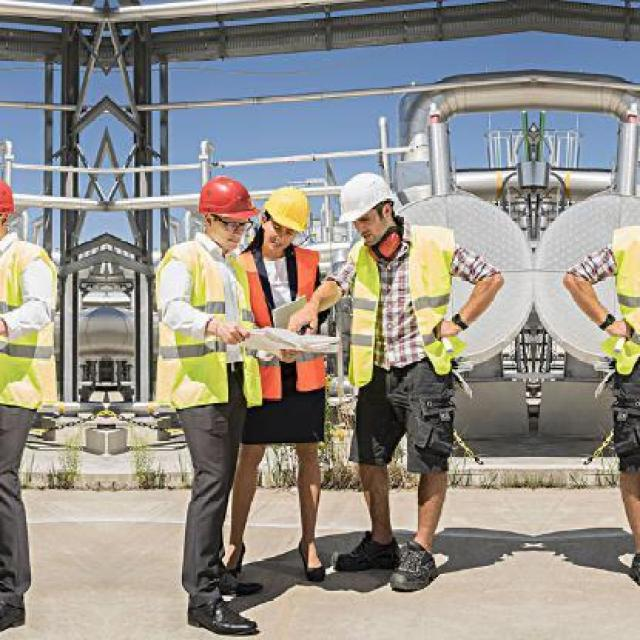helmet: (339, 172, 395, 225), (198, 176, 262, 222), (264, 186, 314, 234)
